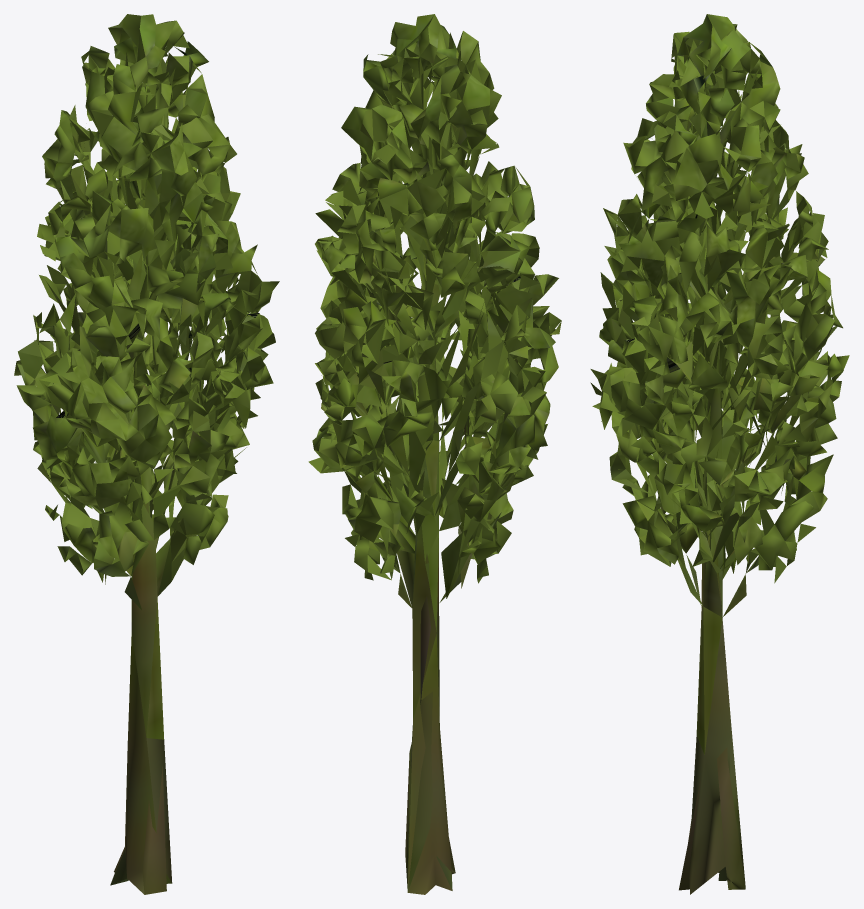
File: getkong-pappel.glb
3 views of the same model, side by side, from view 1: azimuth 30°, elevation 25°; view 2: azimuth 150°, elevation 25°; view 3: azimuth 270°, elevation 25° (orthographic).
Parts seen in each view (by area): view 1: output_unwrapped; view 2: output_unwrapped; view 3: output_unwrapped.
Boxes of the visible parts, box(x1,y1,x2,y2) form: output_unwrapped: box(14, 14, 279, 894); output_unwrapped: box(308, 14, 561, 894); output_unwrapped: box(590, 14, 849, 894).
Bounding box in the file's own units: 0.52 × 1.89 × 0.5092.
1 material, 1 textured.
